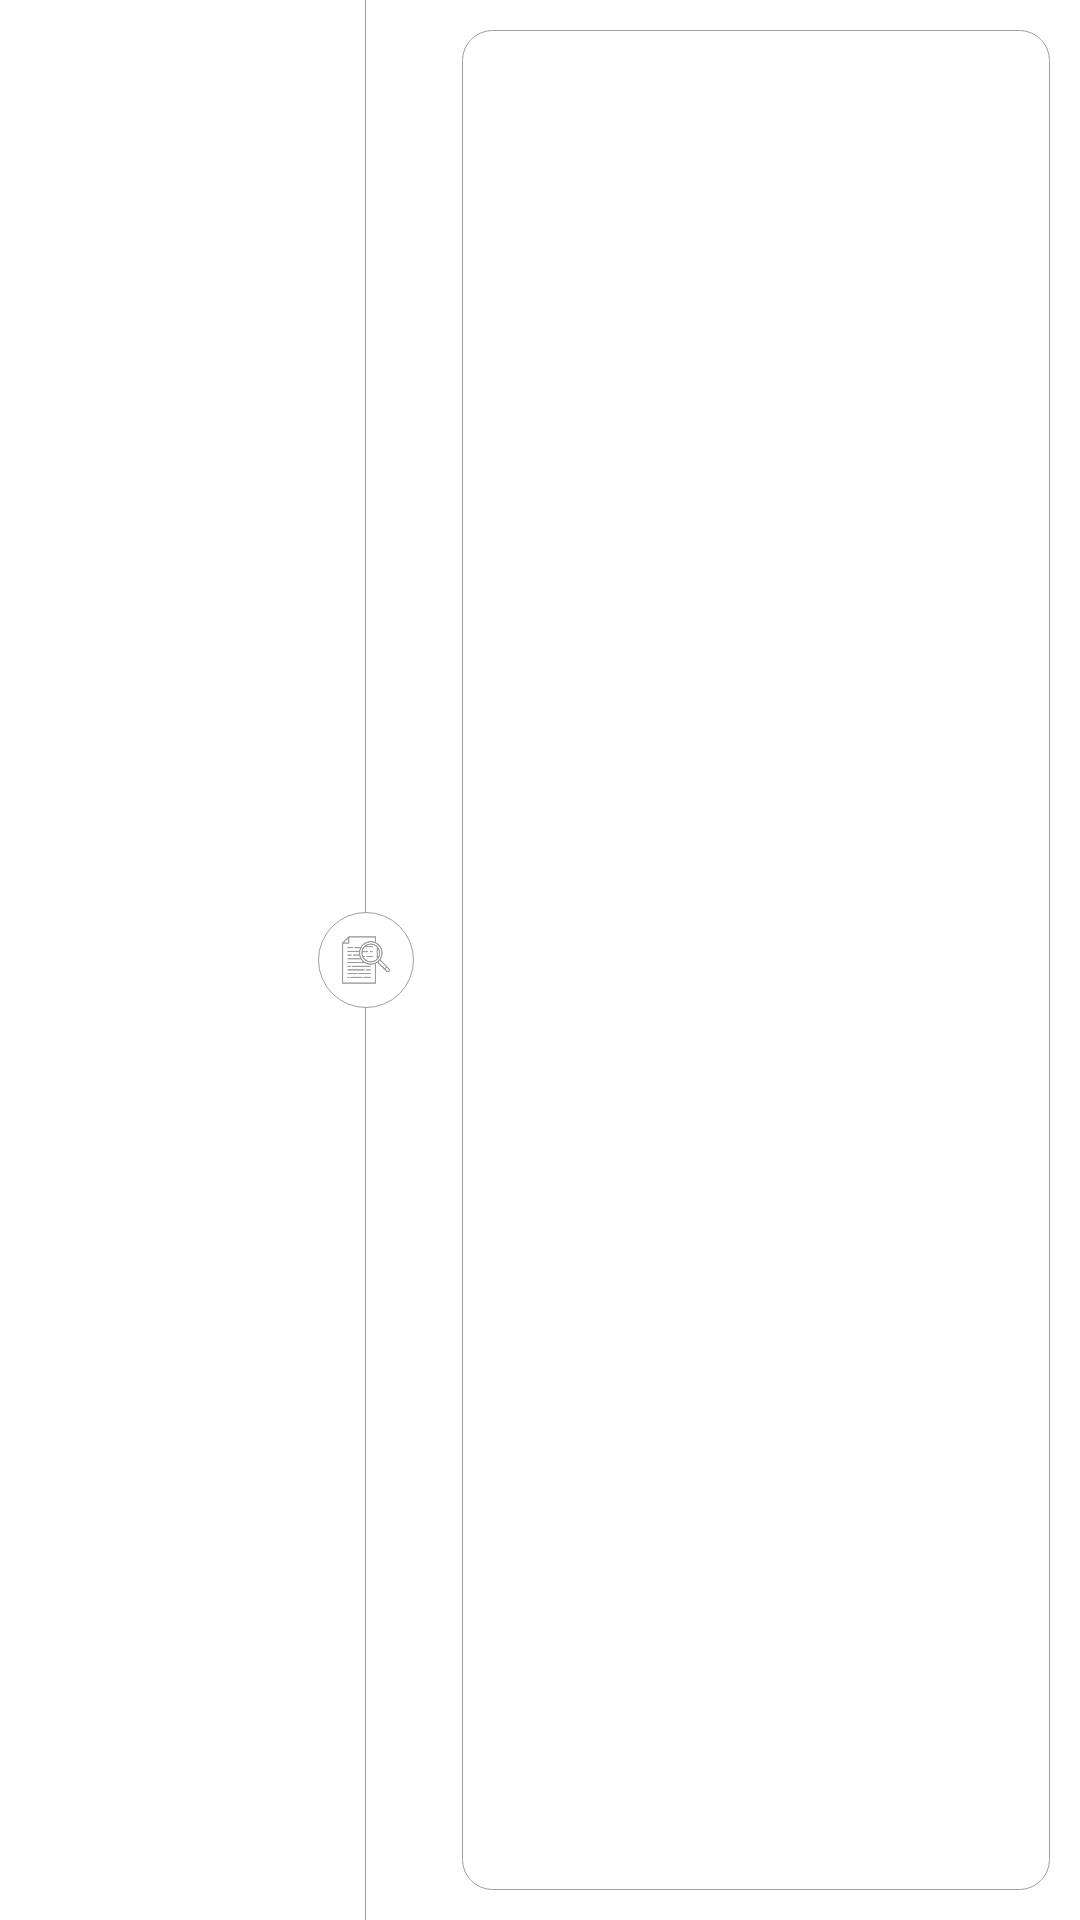

Named icons in this screenshot (1080 × 1920) and their bounding boxes, [x1,y1,x2,y2]:
description: [342,936,390,984]
